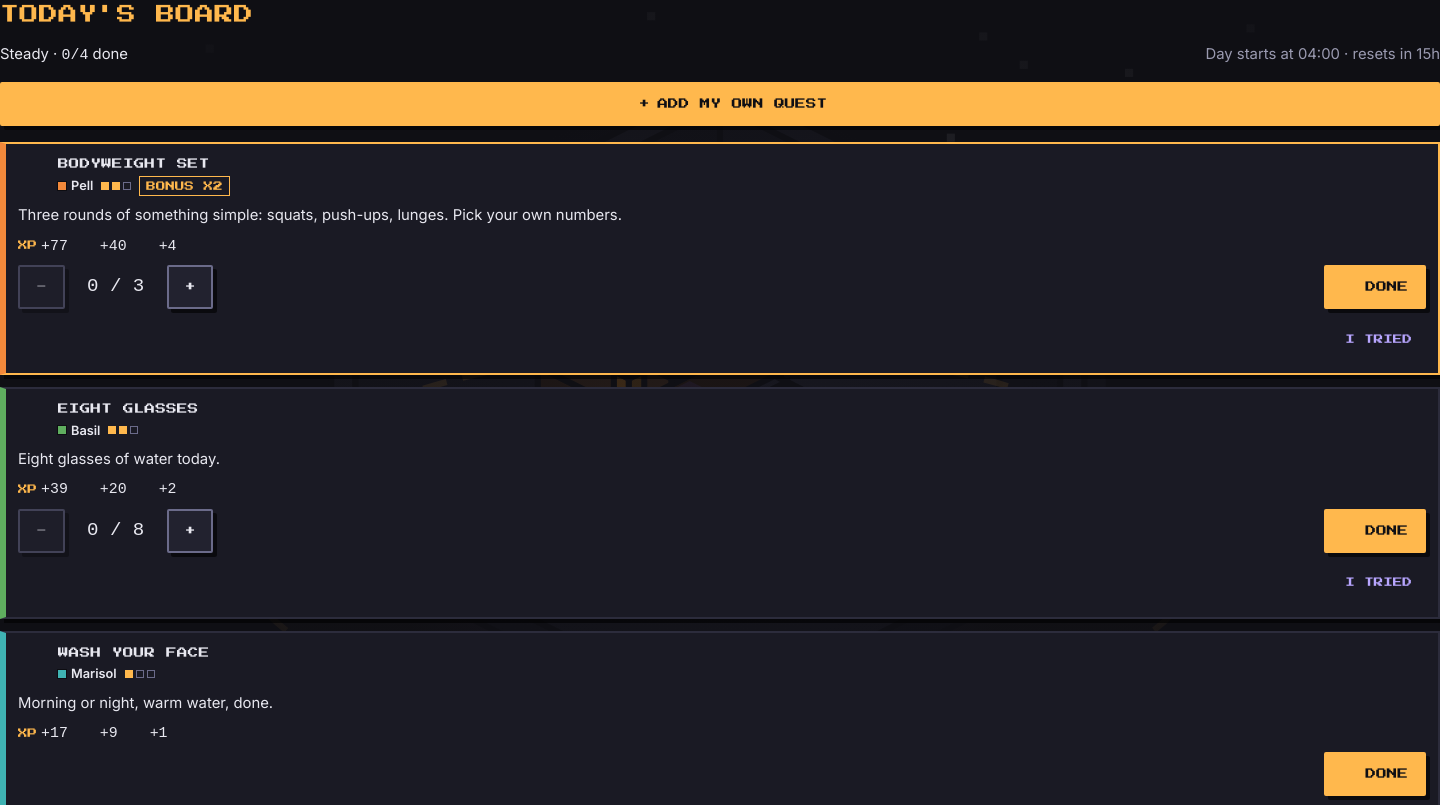
Test: Board: Compose entry point › shows a prominent button that opens the sheet
What coordinates should you click on to do the following:
click the button "+ Add my own quest"
I would click on:
 (720, 104)
Its box is [0,82,1439,126].
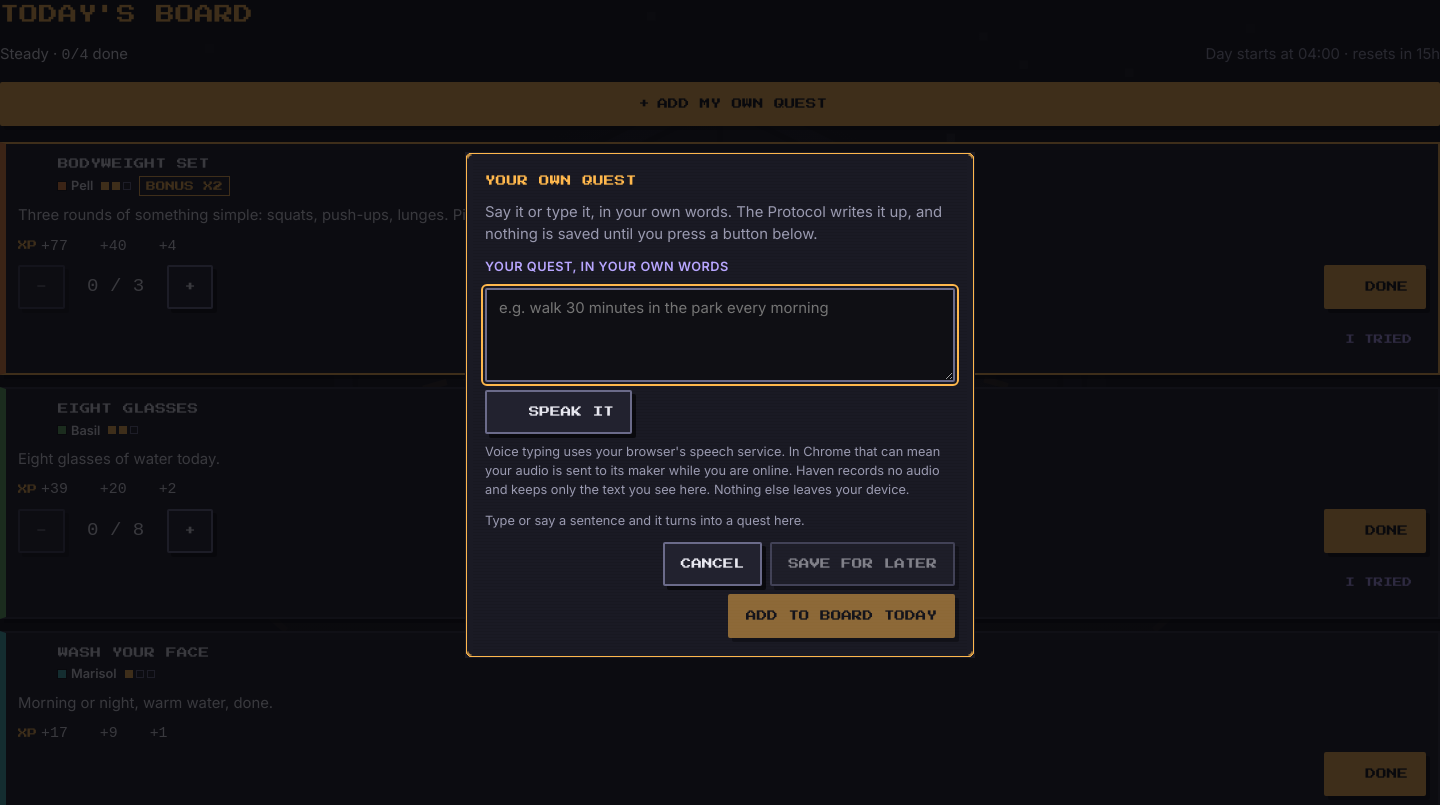
Expected: the dialog "Your own quest" is shown, [465,152,975,658]
What coordinates should you click on to do the following:
click the button "Cancel"
I would click on:
 (713, 564)
Its box is [663,542,762,586].
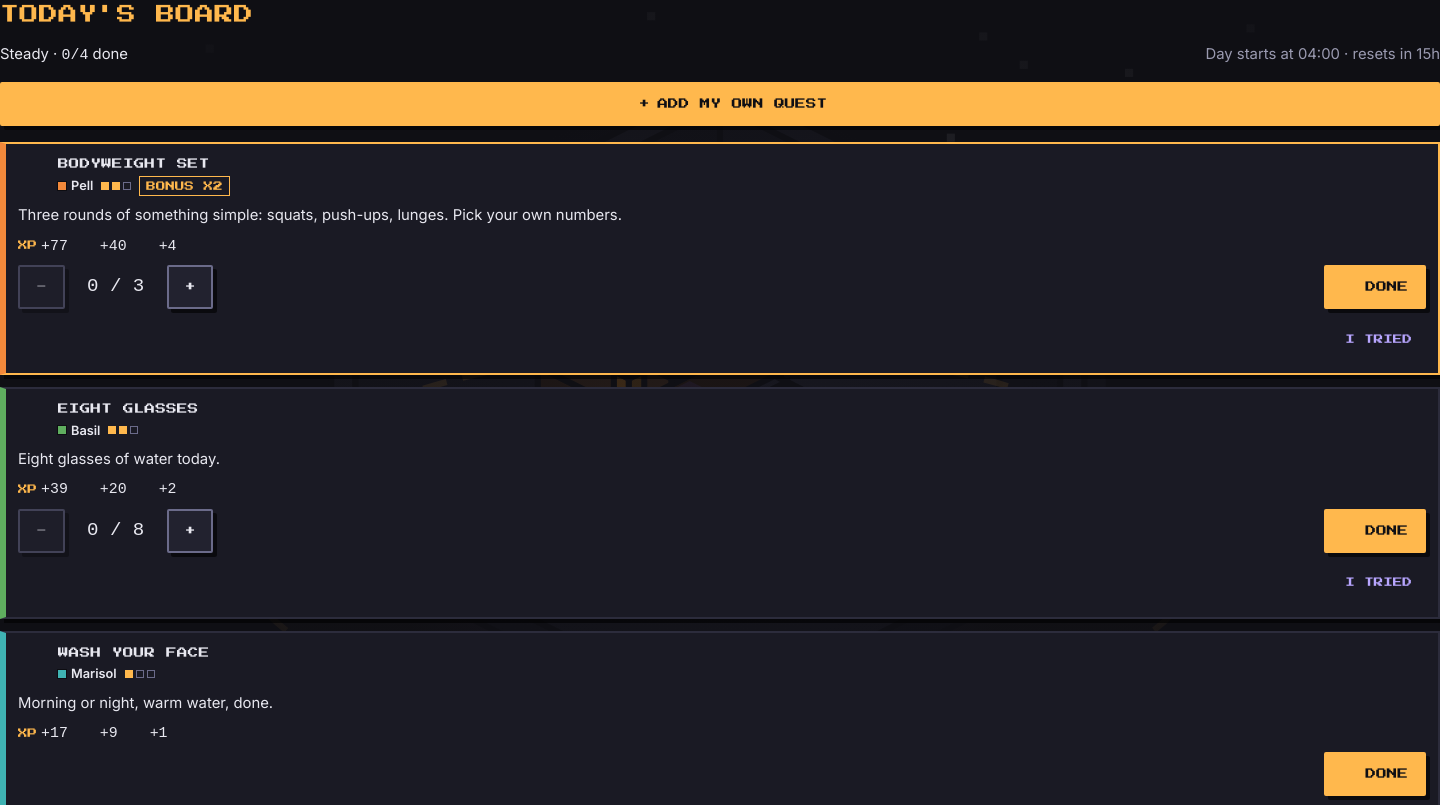
Expected: the label labelled "Your quest, in your own words" is gone
